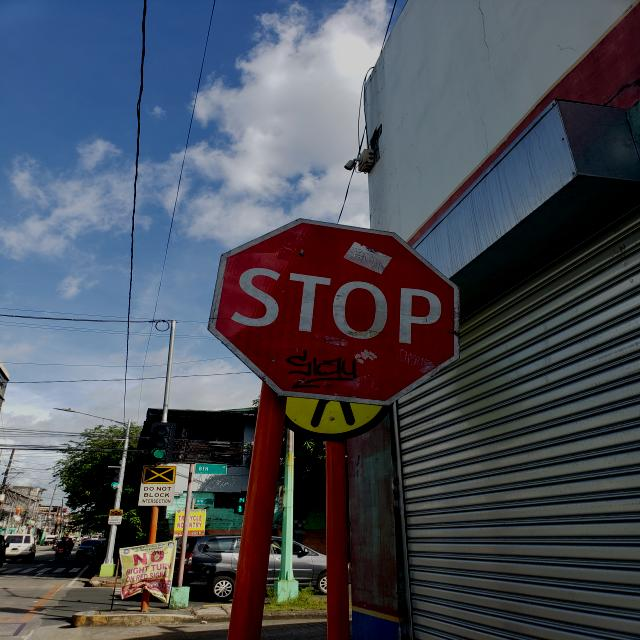stop-sign: (207, 216, 461, 407)
